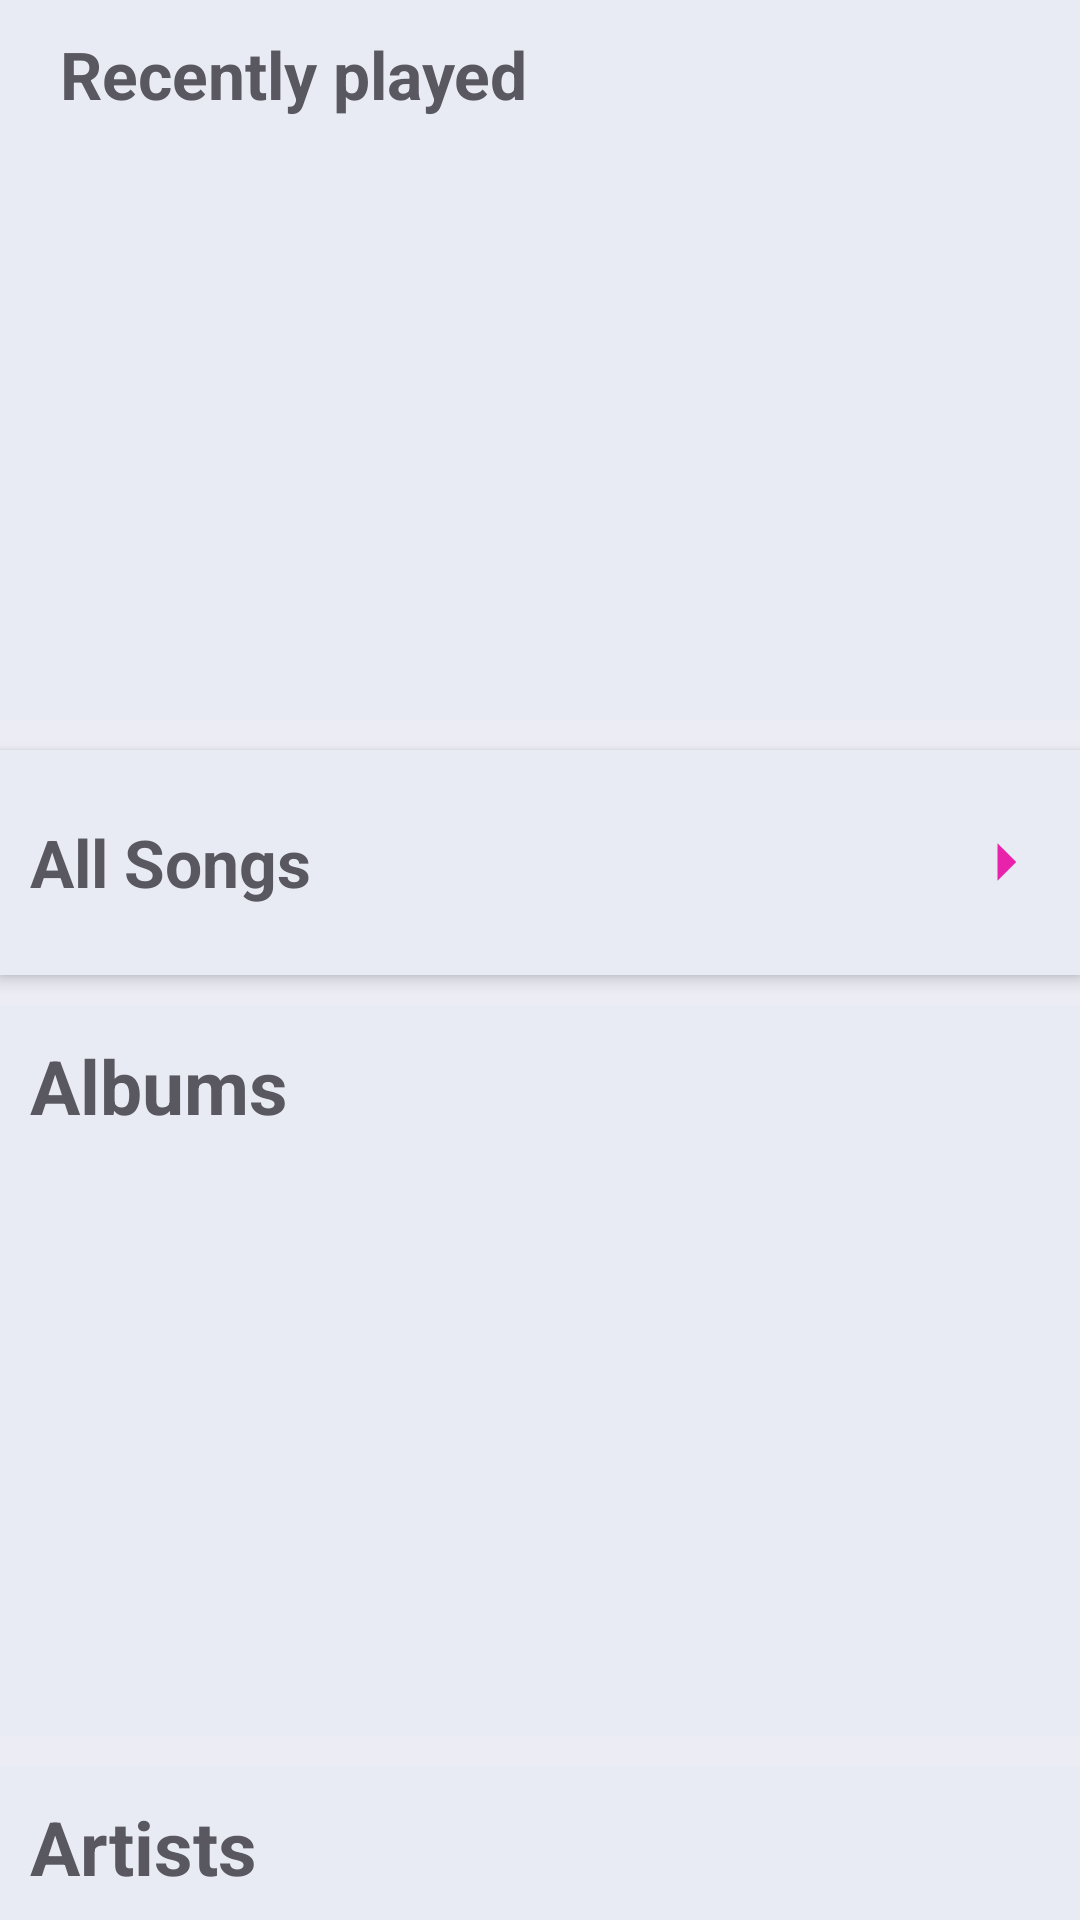

Screen size 1080px x 1920px. Icon name, then its box in pixels as [left=x1, top=y1, right=x2, bottom=y2]:
arrow right: [left=997, top=843, right=1016, bottom=881]
